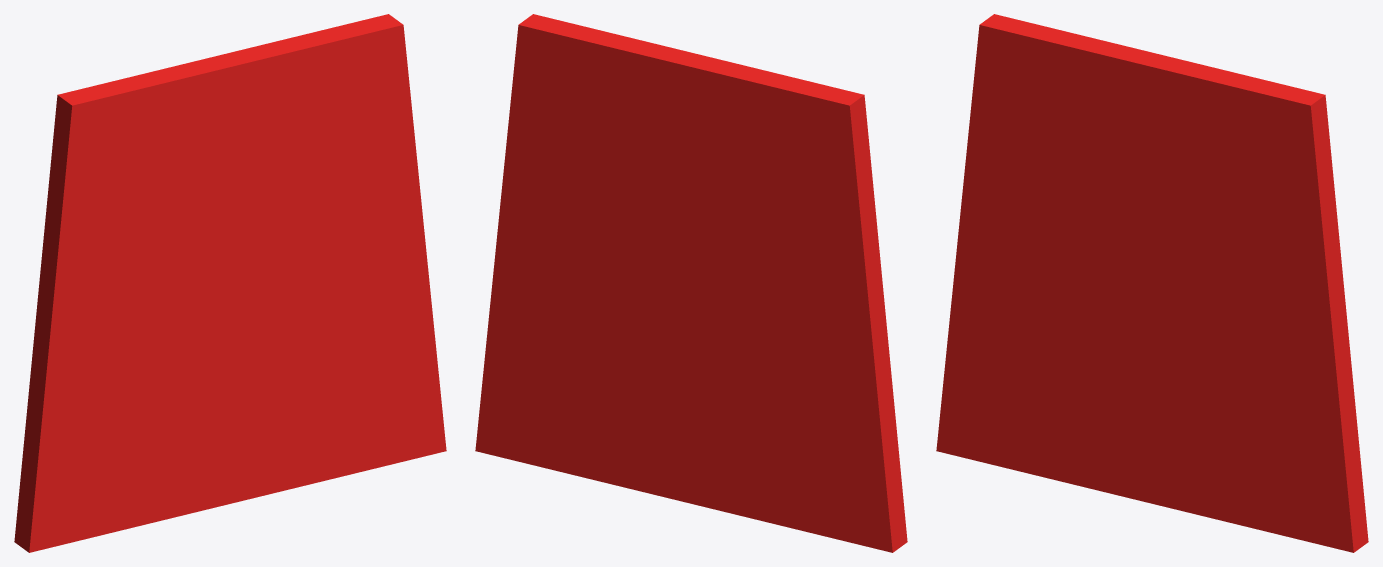
The model's file is WZBottom.fbx.
3 renders of one model, left to right at view 1: azimuth 30°, elevation 25°; view 2: azimuth 150°, elevation 25°; view 3: azimuth 330°, elevation 25°, orthographic.
Parts seen in each view (by area): view 1: Plane.065; view 2: Plane.065; view 3: Plane.065.
Boxes of the visible parts, x1,y1,x2,y2 form: Plane.065: [14, 14, 446, 552]; Plane.065: [475, 14, 907, 552]; Plane.065: [936, 14, 1368, 552].
Bounding box in the file's own units: 0.4626 × 0.4626 × 0.0285.
